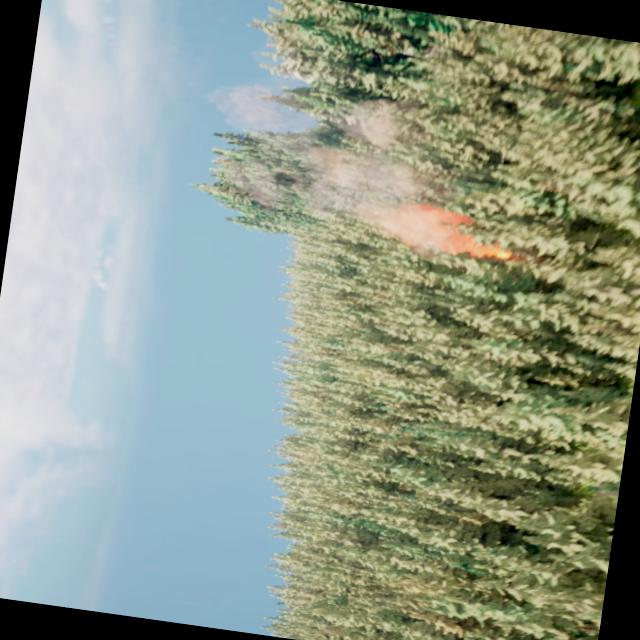fire: (432, 204, 520, 264)
smoke: (175, 66, 515, 259)
